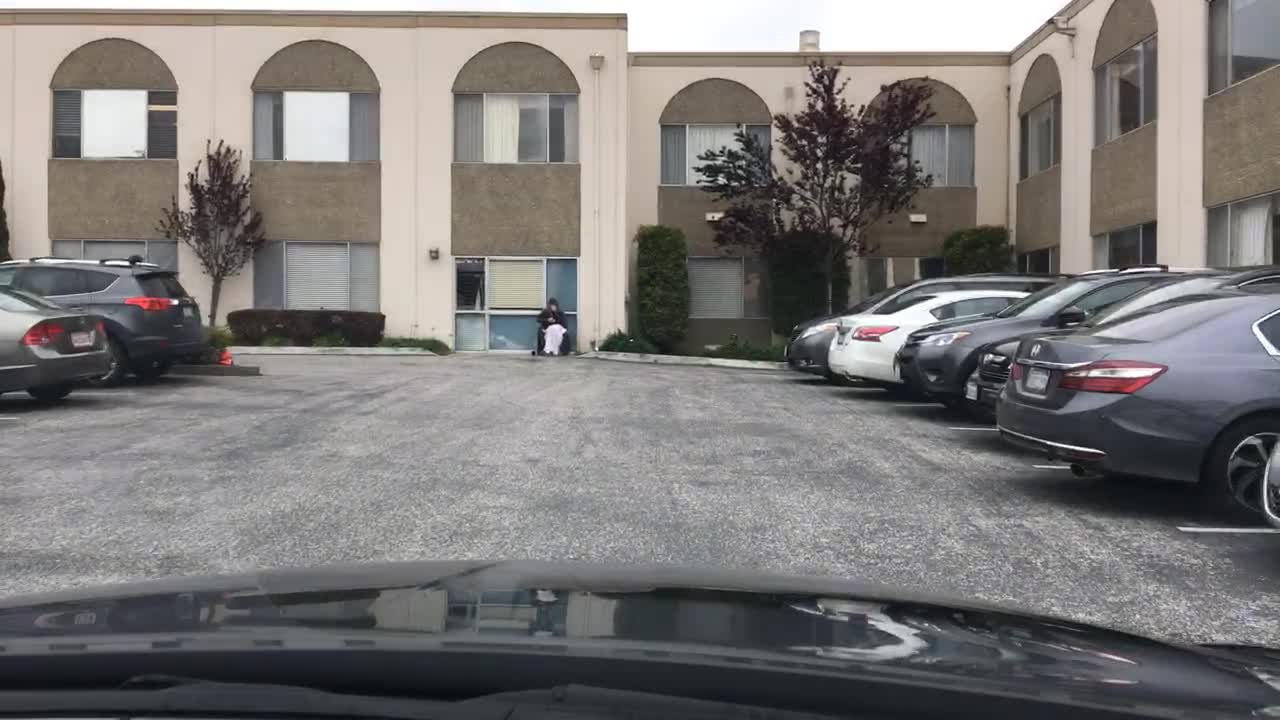car: (993, 284, 1278, 522), (888, 259, 1215, 423), (959, 262, 1277, 417), (782, 270, 1074, 377), (2, 254, 206, 385), (828, 291, 1035, 380), (2, 284, 110, 406)
person: (536, 297, 567, 353)
